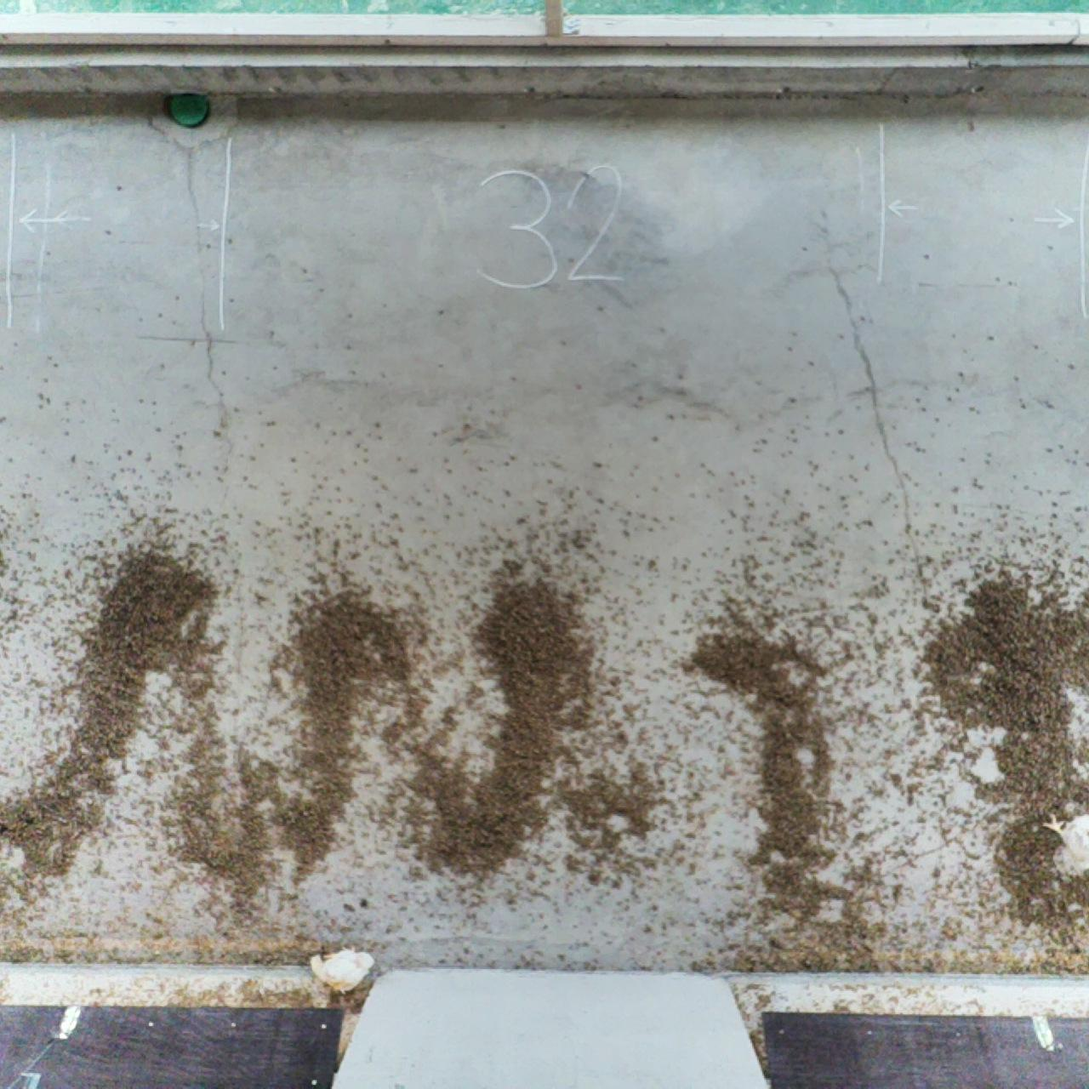chicken: (308, 942, 376, 996)
